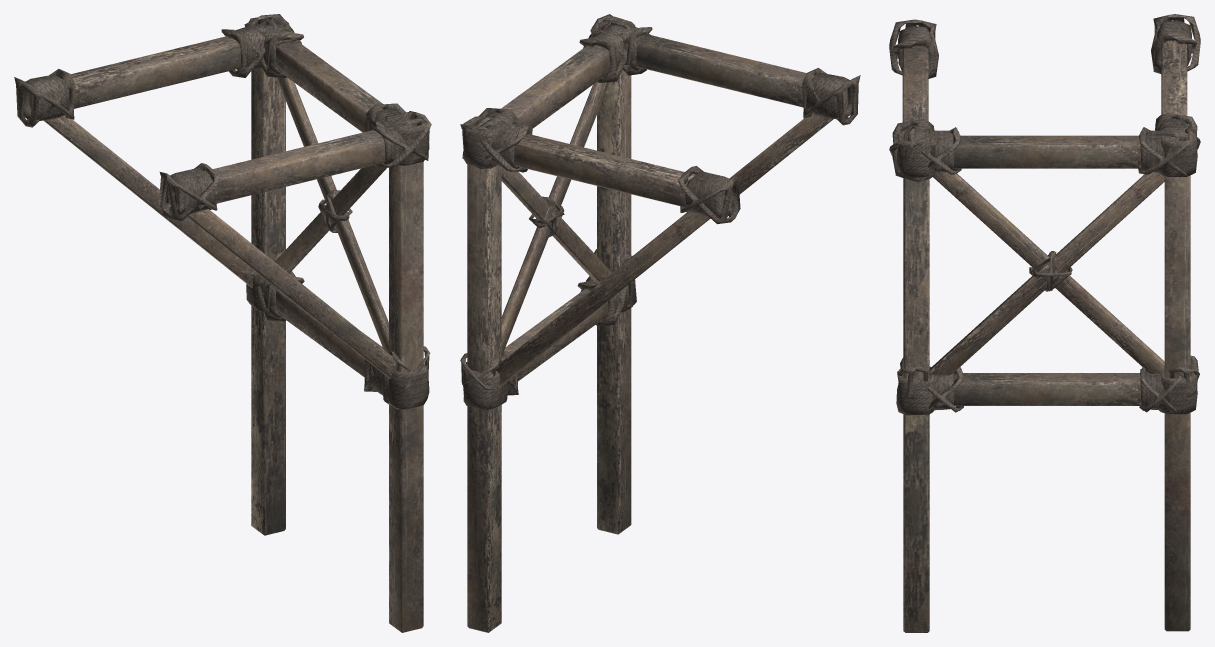
Rendered from SM_Scafold_01c.fbx.
3 views of the same model, side by side, from view 1: azimuth 30°, elevation 25°; view 2: azimuth 150°, elevation 25°; view 3: azimuth 270°, elevation 25° (orthographic). The views are drawn at different scales.
Visible parts, largest first — view 1: SM_Scafold_01c; view 2: SM_Scafold_01c; view 3: SM_Scafold_01c.
Boxes of the visible parts, x1=… form: SM_Scafold_01c: x1=14, y1=14, x2=431, y2=632; SM_Scafold_01c: x1=460, y1=14, x2=860, y2=632; SM_Scafold_01c: x1=889, y1=14, x2=1200, y2=632.
Size of the model in its own units: 597 by 1062 by 605.
